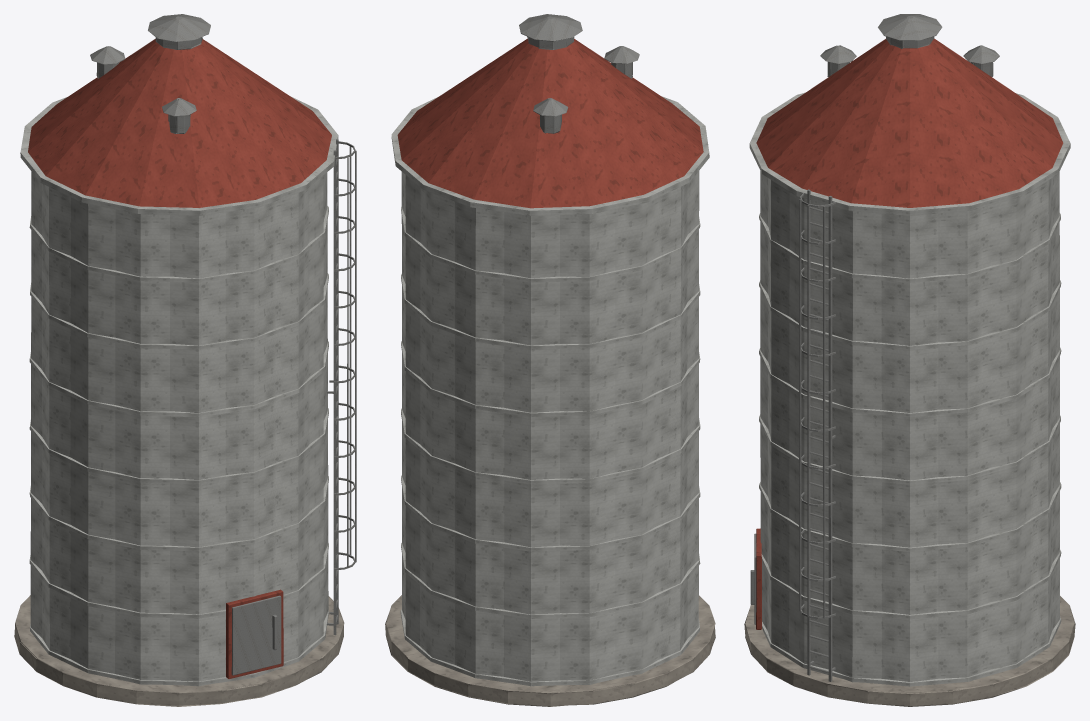
Rendered from silo_large.glb.
3 renders of one model, left to right at view 1: azimuth 30°, elevation 25°; view 2: azimuth 150°, elevation 25°; view 3: azimuth 270°, elevation 25°, orthographic.
Visible parts, largest first — view 1: SiloLarge; view 2: SiloLarge; view 3: SiloLarge.
Part boxes in pixels (x1,y1,x2,y2): SiloLarge: [14, 14, 356, 706]; SiloLarge: [385, 14, 715, 706]; SiloLarge: [744, 14, 1075, 706].
Bounding box in the file's own units: 4.94 × 10.22 × 4.94.
4 materials, 4 textured.
